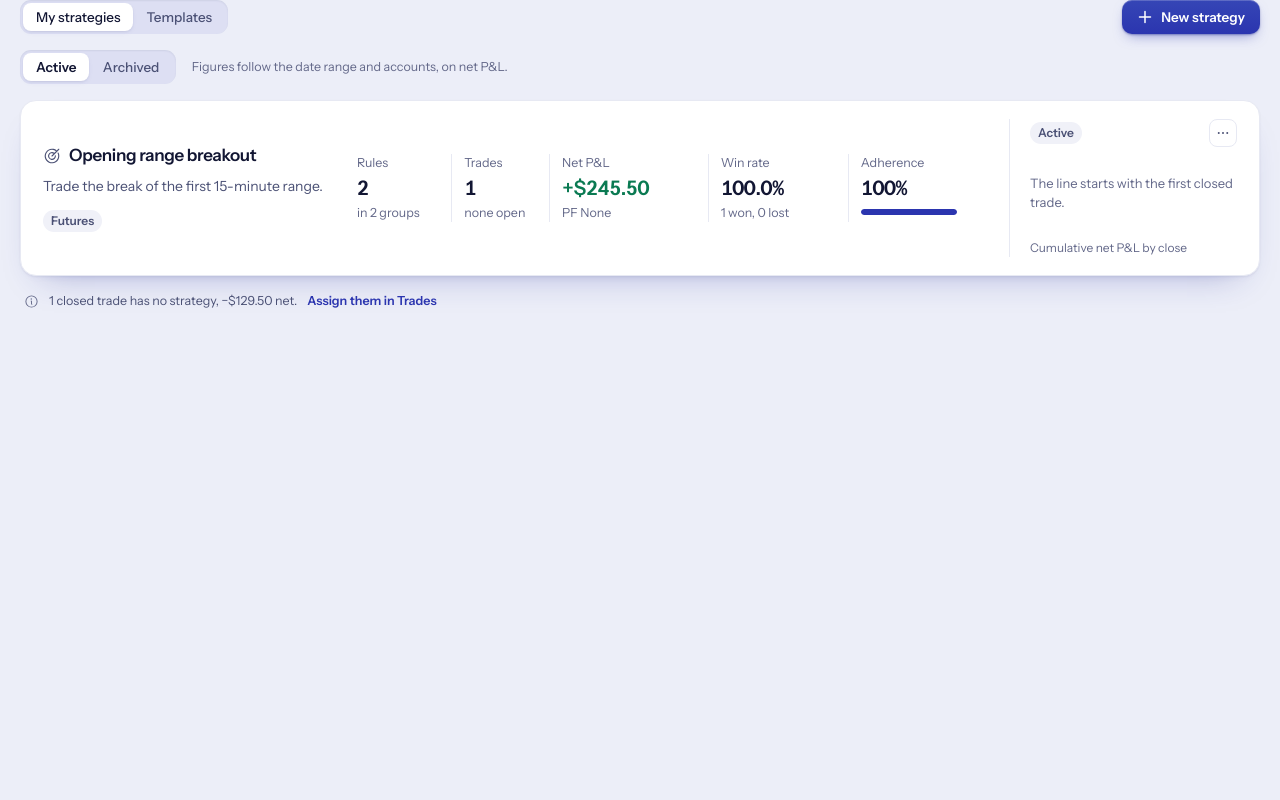
Test case: the chooser filters by asset class and searches name and asset class; Start blank stays
Click the button "New strategy": (1191, 17) [1122,0,1260,34]
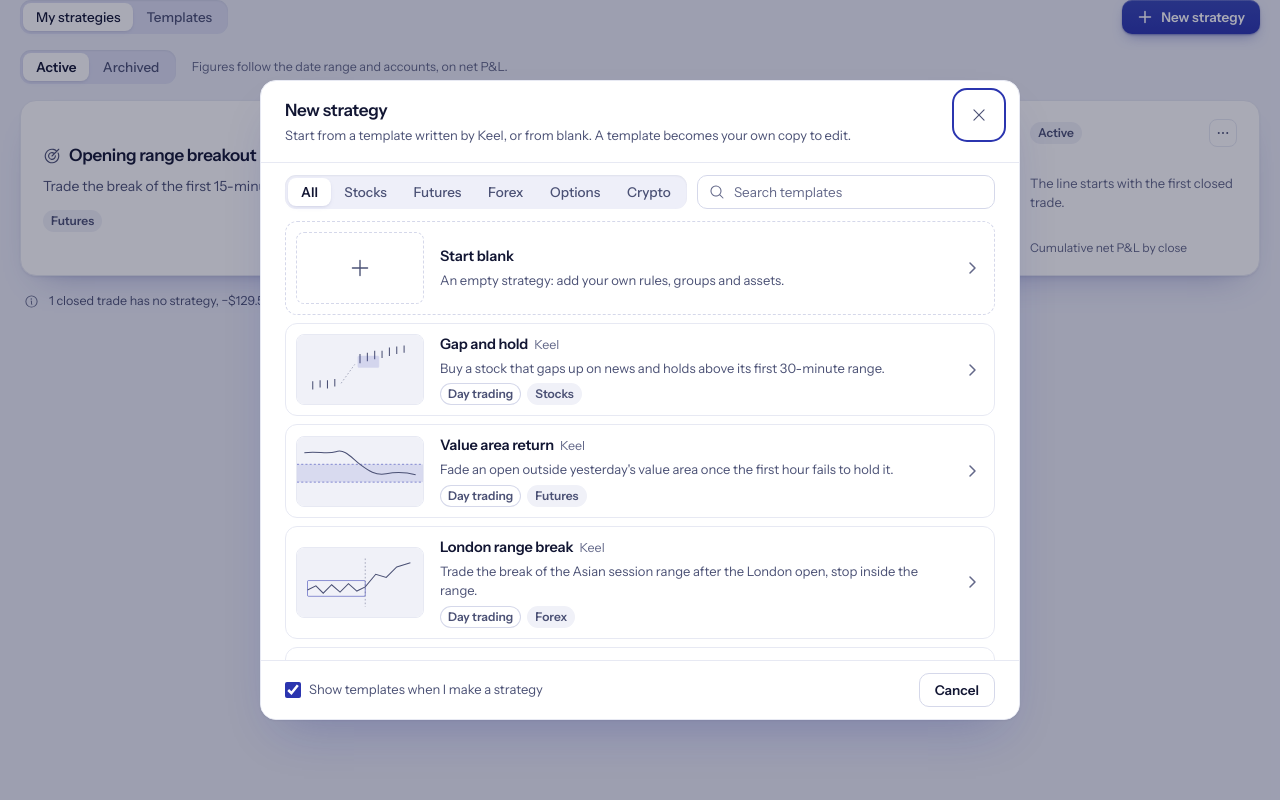
Click the radio button labelled "Forex": (506, 192) [488,184,524,200]
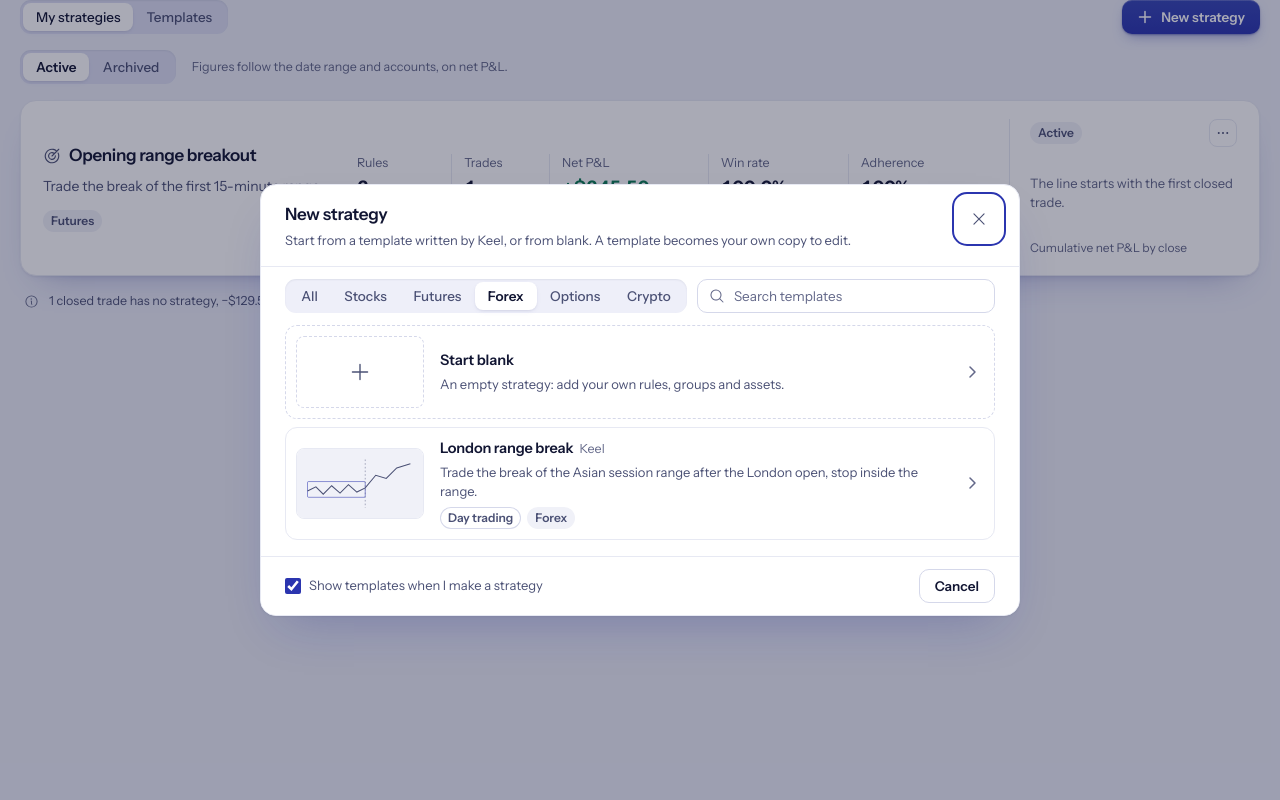
Now the text "London range break" is shown, box [440,438,574,460]
Now the button "Gap and hold" is gone
Click the radio button labelled "All": (309, 296) [301,288,318,304]
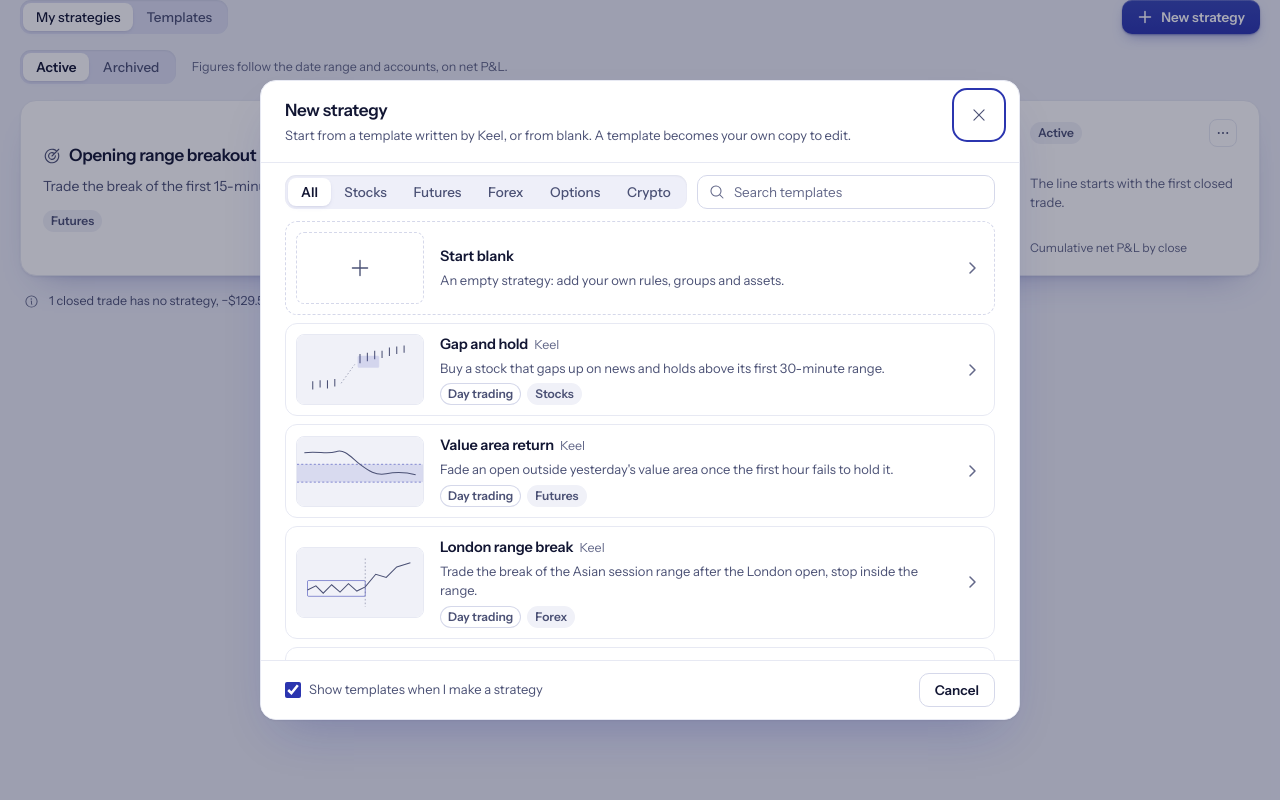
In the search field labelled "Search templates": (846, 192) [697,175,995,209], type "option"
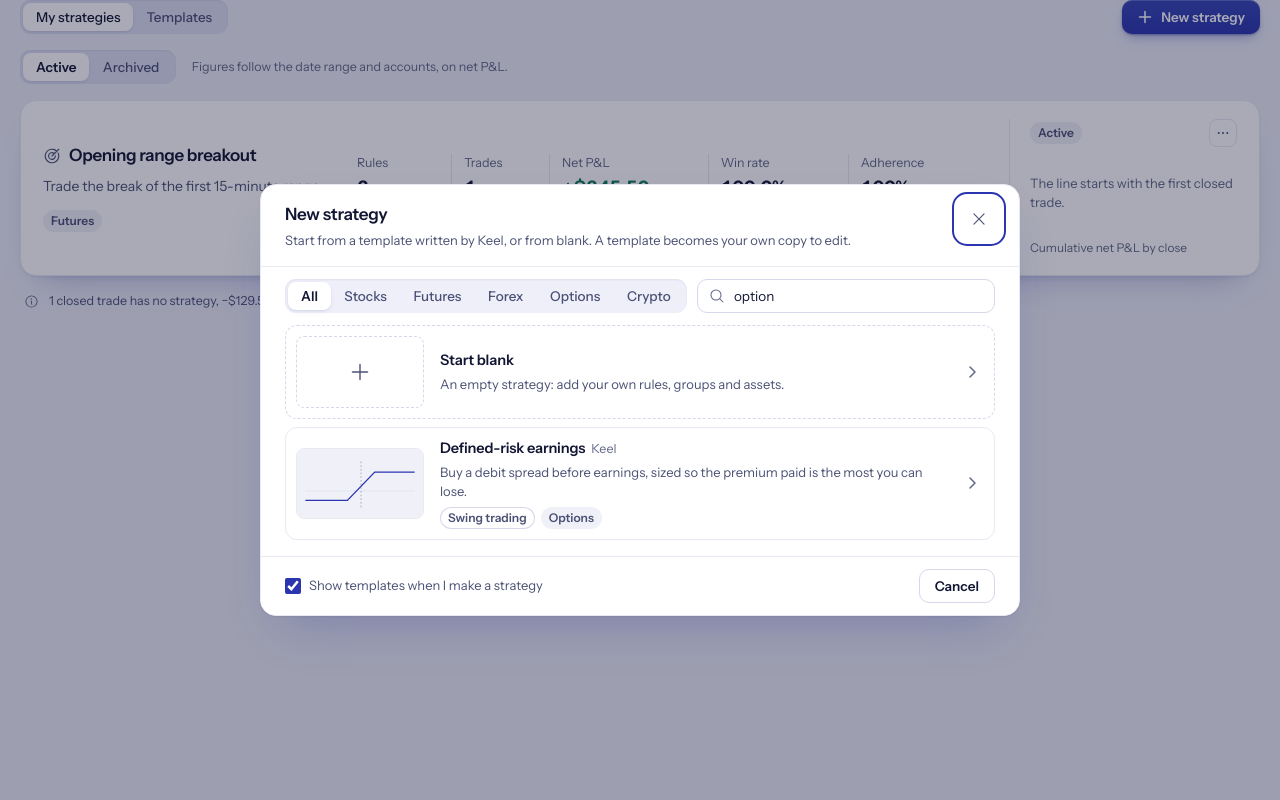
Now the text "Defined-risk earnings" is shown, box [440,438,585,460]
Now the button "London range break" is gone
Replace the text in the search field named "Search templates" with "zzz": (846, 296) [697,279,995,313]
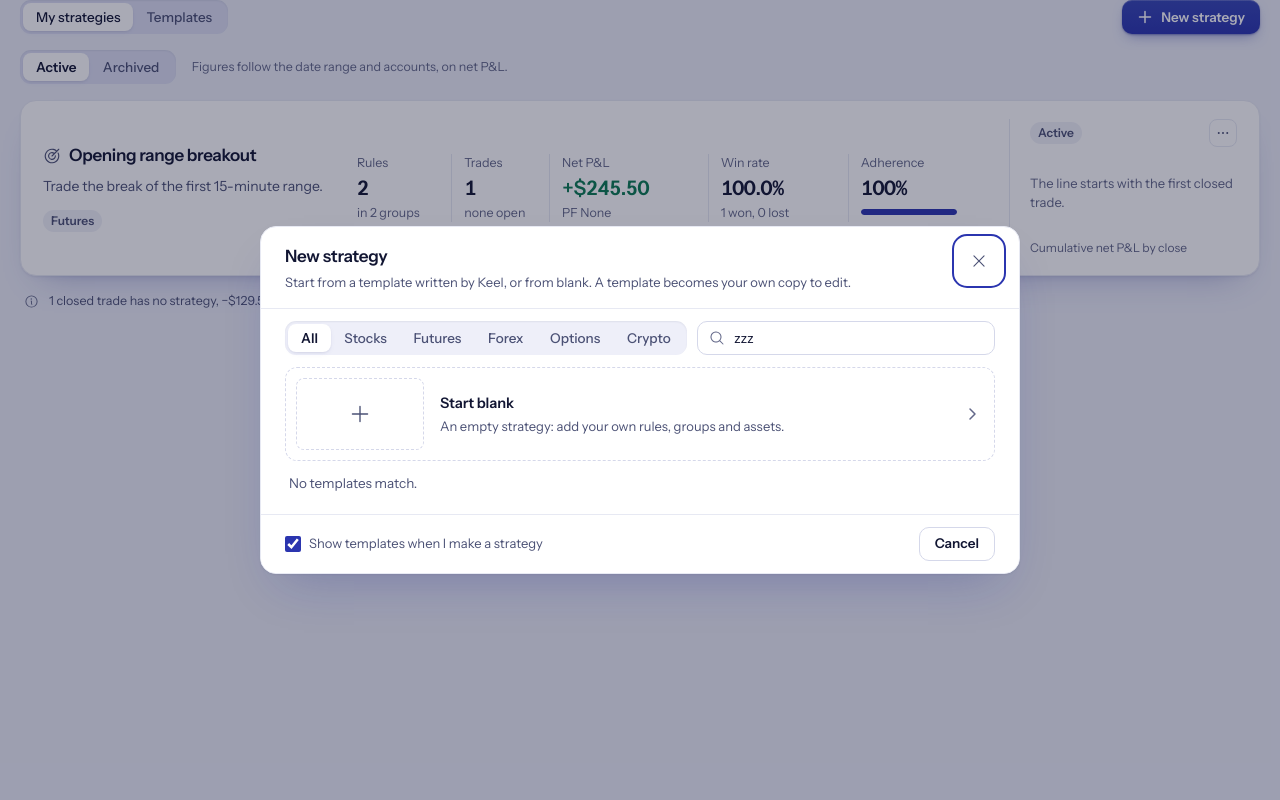
Now the text "Start blank" is shown, box [440,394,514,412]
Now the text "No templates match." is shown, box [289,475,417,491]
